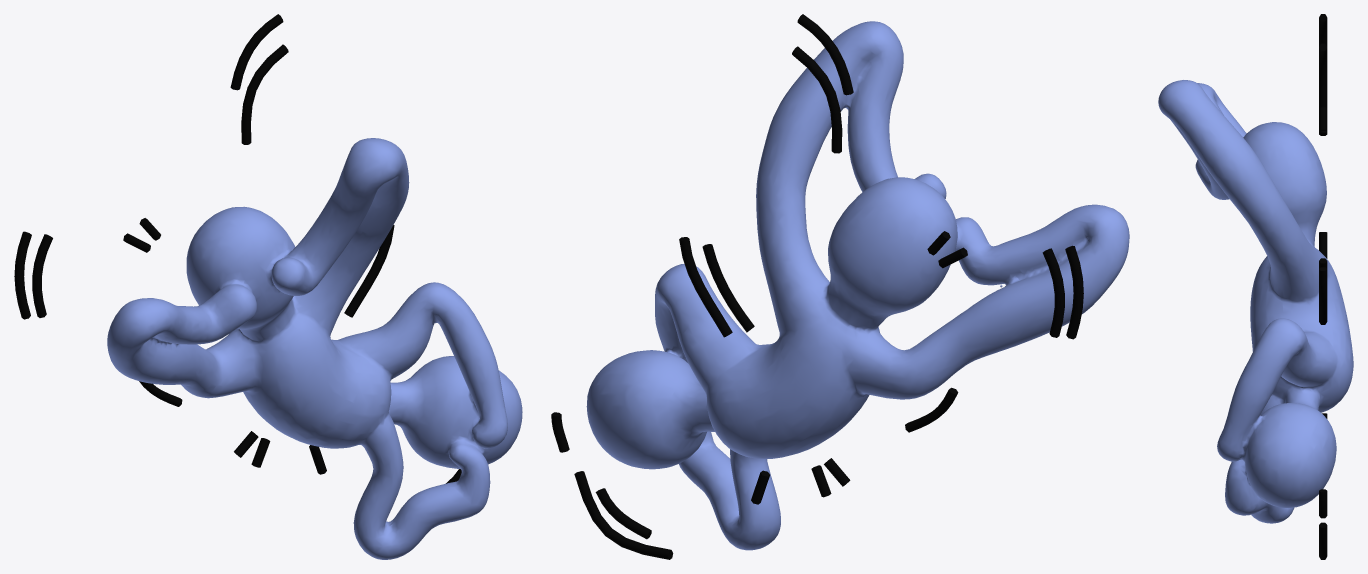
The picture shows the model from 3 angles, left to right: view 1: azimuth 30°, elevation 25°; view 2: azimuth 150°, elevation 25°; view 3: azimuth 270°, elevation 25°; orthographic projection. The views are drawn at different scales.
Parts seen in each view (by area): view 1: Cube.036, BézierCurve.019; view 2: Cube.036, BézierCurve.019; view 3: Cube.036, BézierCurve.019.
Boxes of the visible parts, <box> form: Cube.036: <box>107,138,522,559</box>; BézierCurve.019: <box>14,14,461,483</box>; Cube.036: <box>586,21,1129,550</box>; BézierCurve.019: <box>551,14,1083,559</box>; Cube.036: <box>1158,80,1353,523</box>; BézierCurve.019: <box>1319,14,1327,559</box>.
Size of the model in its own units: 0.9503 by 0.9891 by 0.3683.
